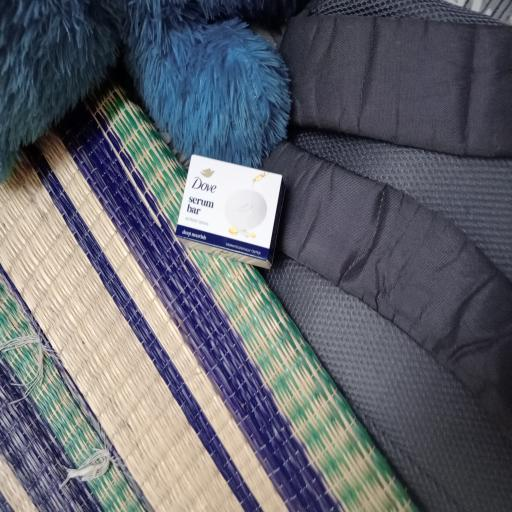Dove`1: (167, 149, 295, 272)
